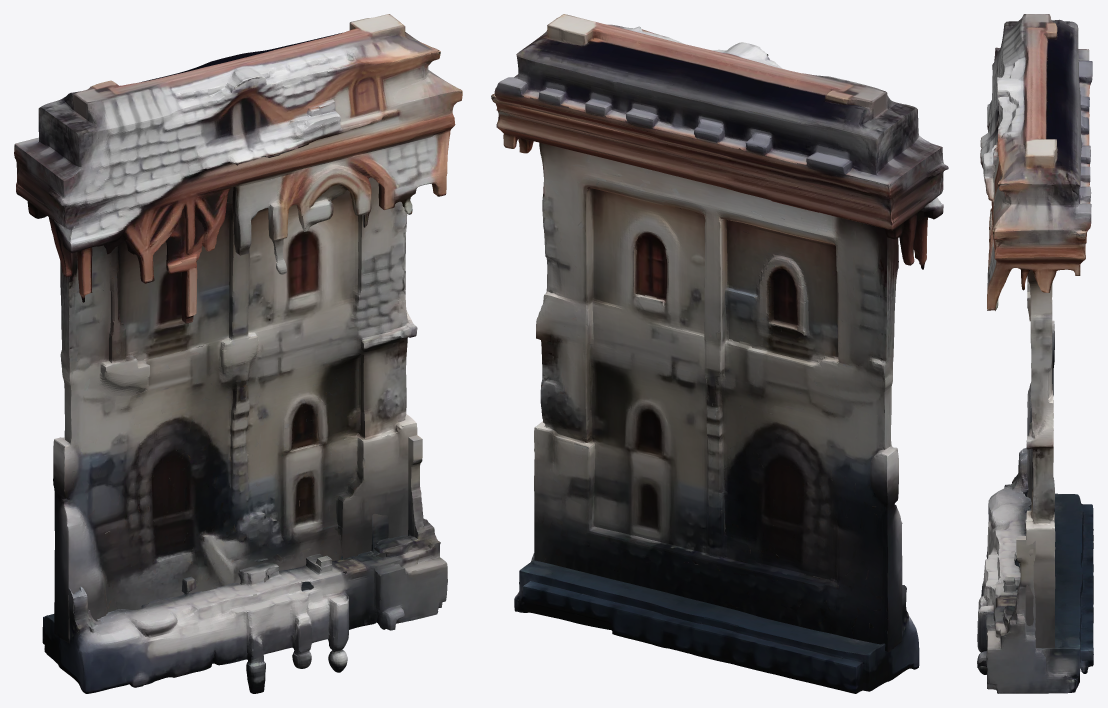
The picture shows the model from 3 angles, left to right: view 1: azimuth 30°, elevation 25°; view 2: azimuth 150°, elevation 25°; view 3: azimuth 270°, elevation 25°; orthographic projection. The views are drawn at different scales.
Parts seen in each view (by area): view 1: part_1, part_0, part_2; view 2: part_1, part_0, part_2; view 3: part_0, part_2, part_1.
Boxes of the visible parts, <box> form: part_1: <box>53,177,417,642</box>; part_0: <box>14,14,462,323</box>; part_2: <box>42,435,447,693</box>; part_1: <box>534,142,902,651</box>; part_0: <box>491,14,948,269</box>; part_2: <box>514,553,919,693</box>; part_0: <box>980,14,1092,310</box>; part_2: <box>977,447,1093,693</box>; part_1: <box>1025,270,1055,648</box>.
Size of the model in its own units: 0.6854 by 0.9918 by 0.1879.
3 materials, 3 textured.
